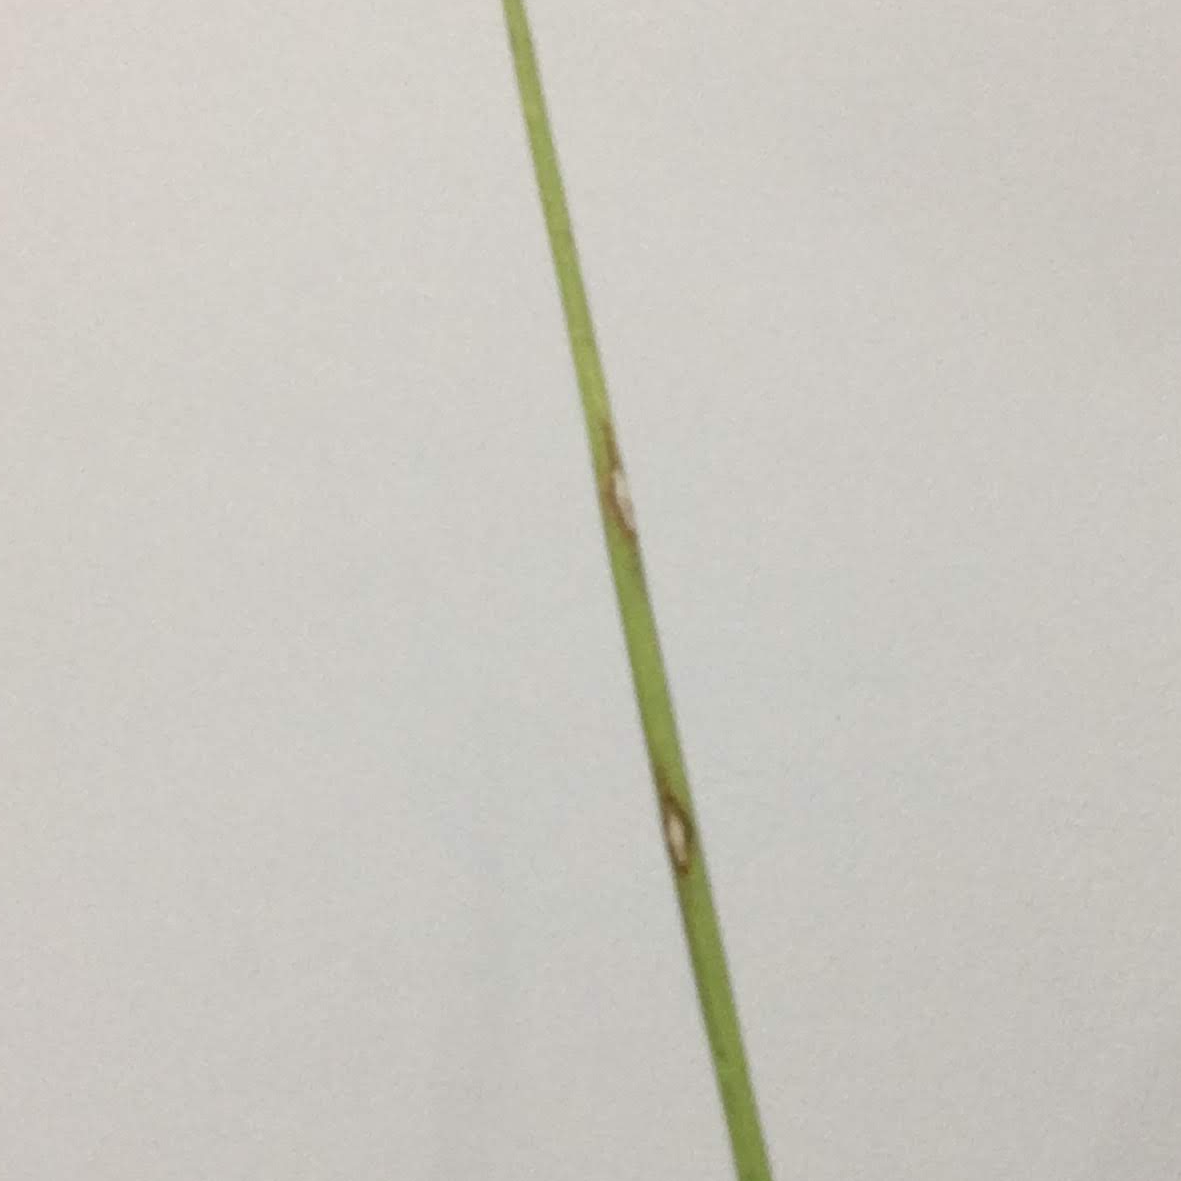leaf blast: (501, 2, 786, 1181)
